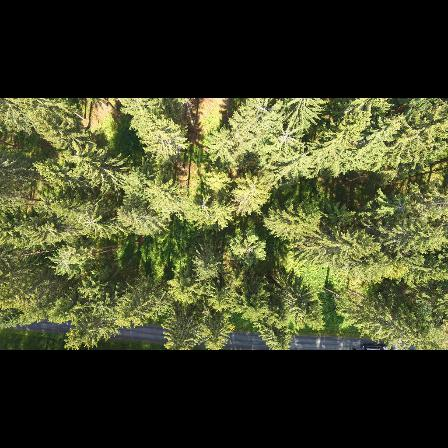Sick: (50, 248, 83, 278), (189, 193, 220, 221), (273, 123, 303, 150), (75, 209, 104, 234)
